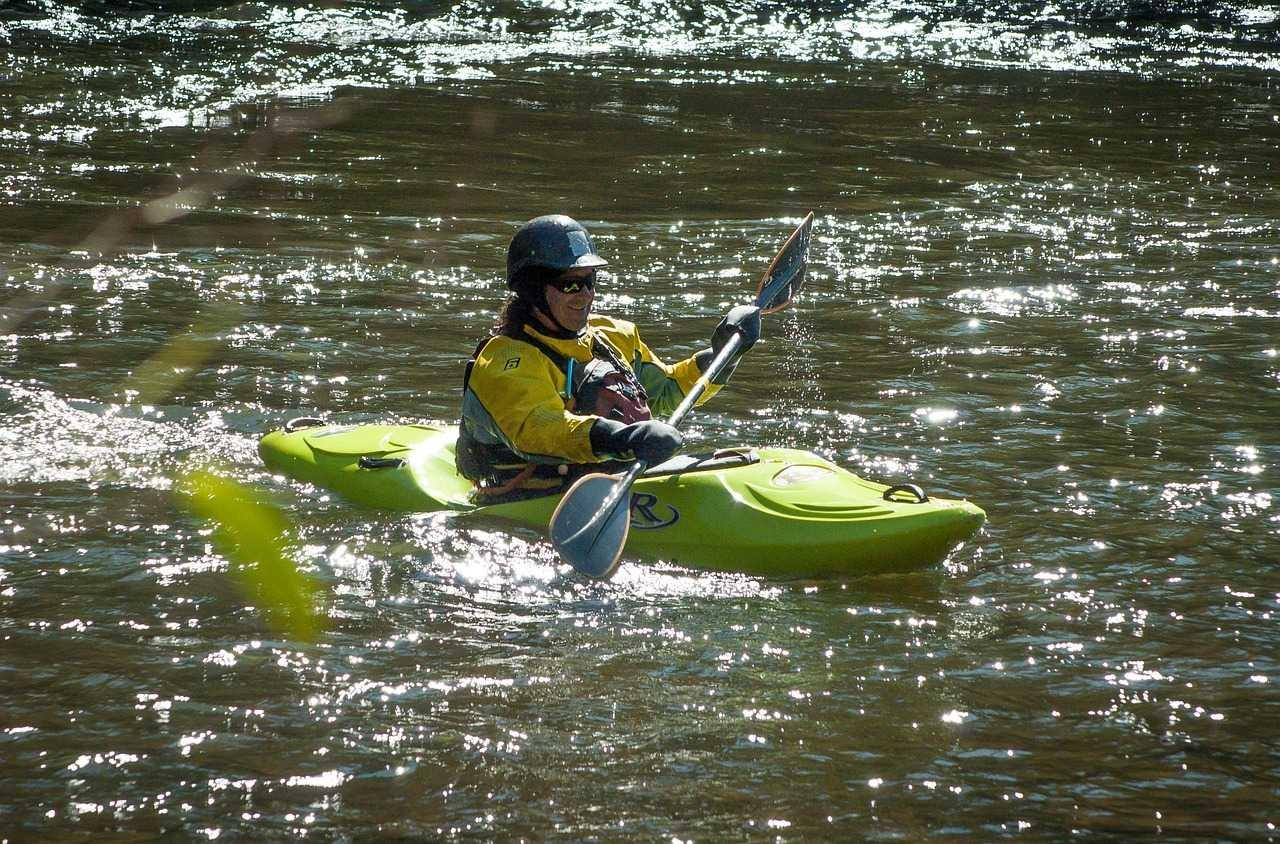kayak: (258, 422, 986, 580)
